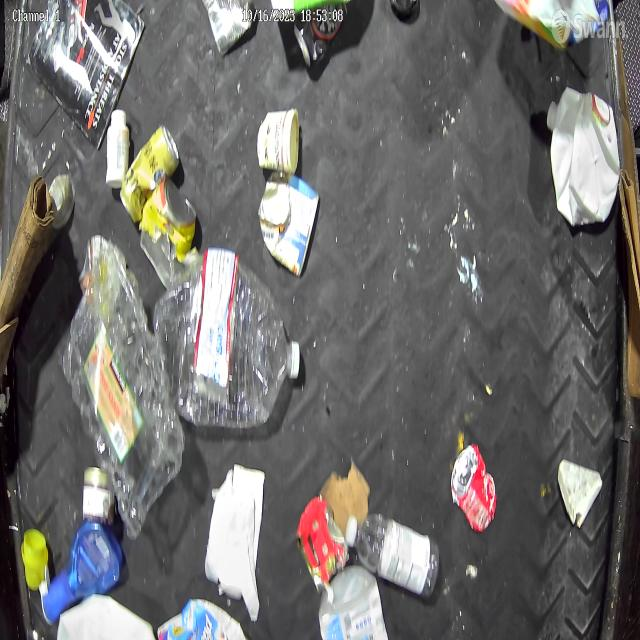can: (140, 176, 197, 290), (119, 124, 180, 223), (296, 495, 350, 594), (451, 443, 497, 534), (294, 5, 348, 68), (256, 108, 300, 172), (206, 0, 252, 56), (82, 468, 116, 523), (78, 234, 105, 292)
milk_jug: (546, 86, 620, 227), (319, 565, 389, 640)
plastic_bottle: (154, 247, 300, 428), (345, 513, 440, 600)
